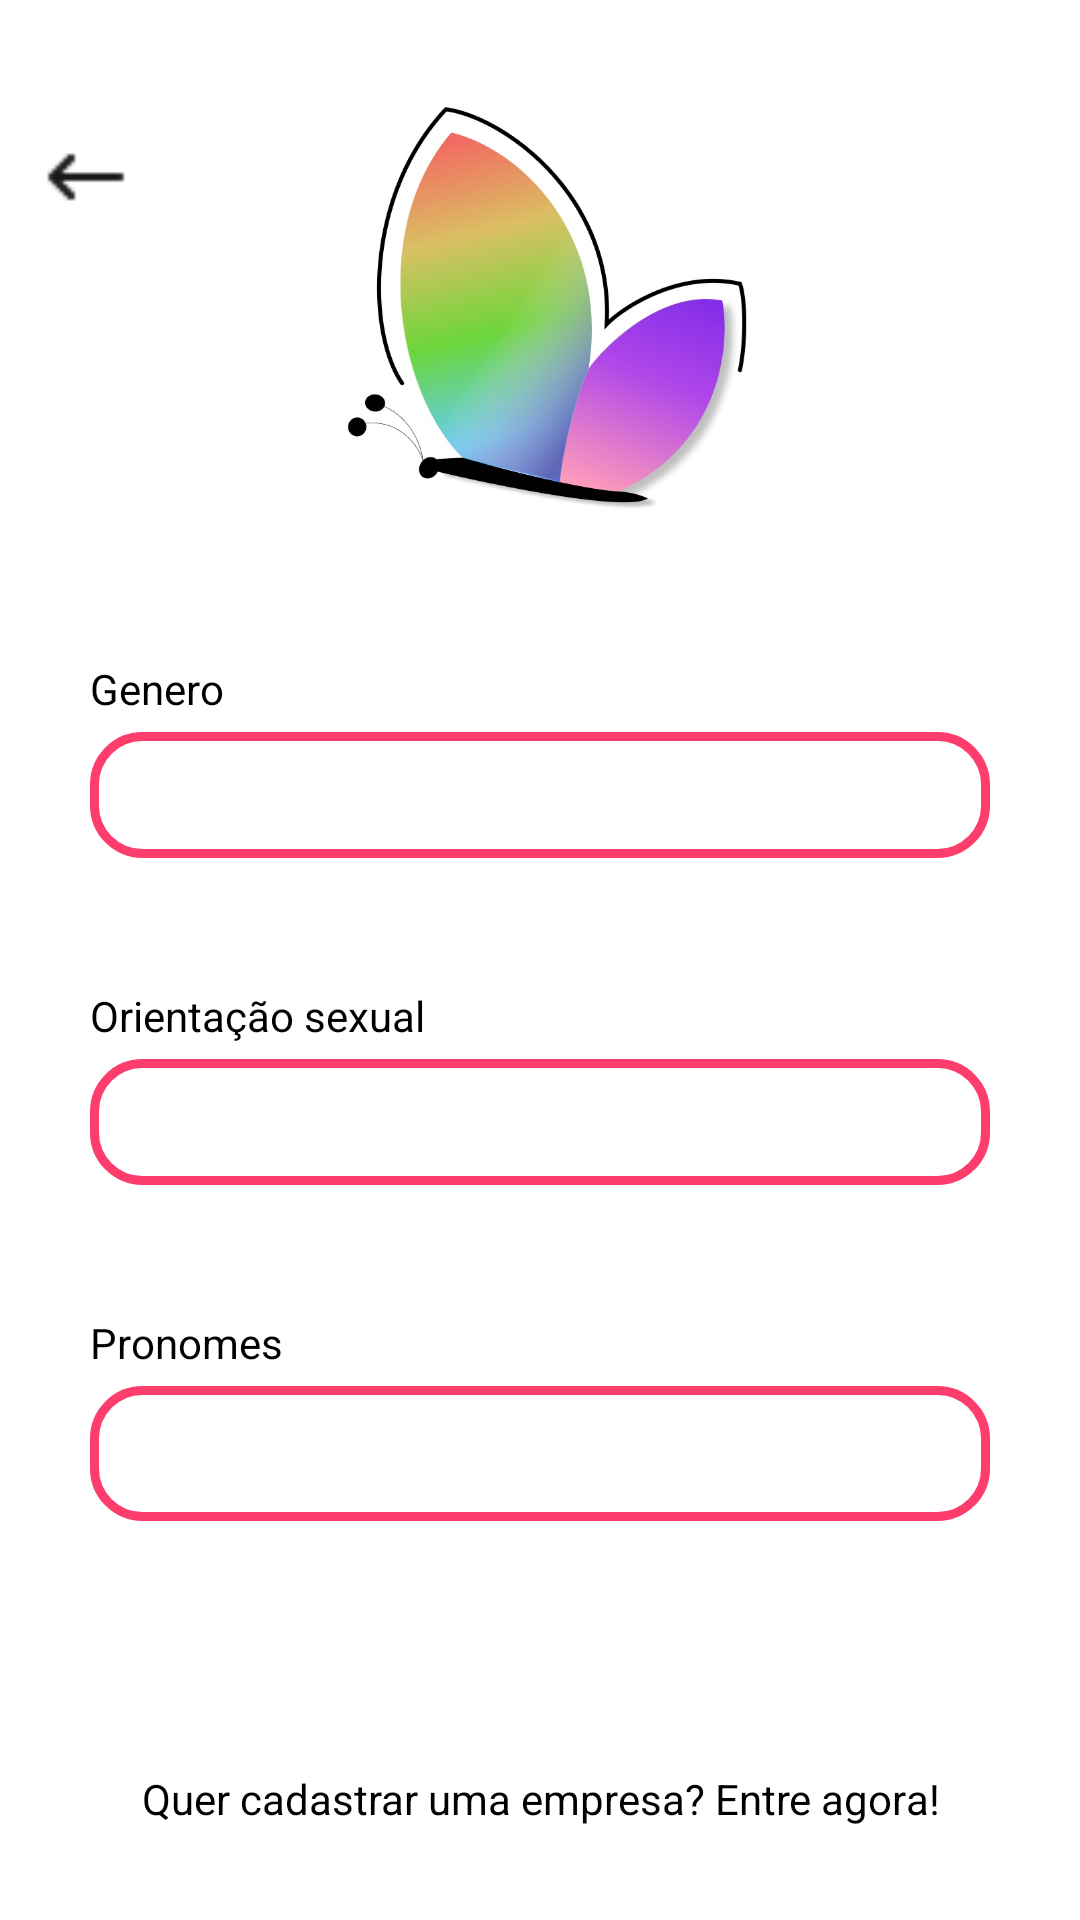

Locate icon controls on the screen. Image size 1080 x 1920, boxes as (x1, y1, x2, y2).
voltar seta: (47, 153, 125, 201)
